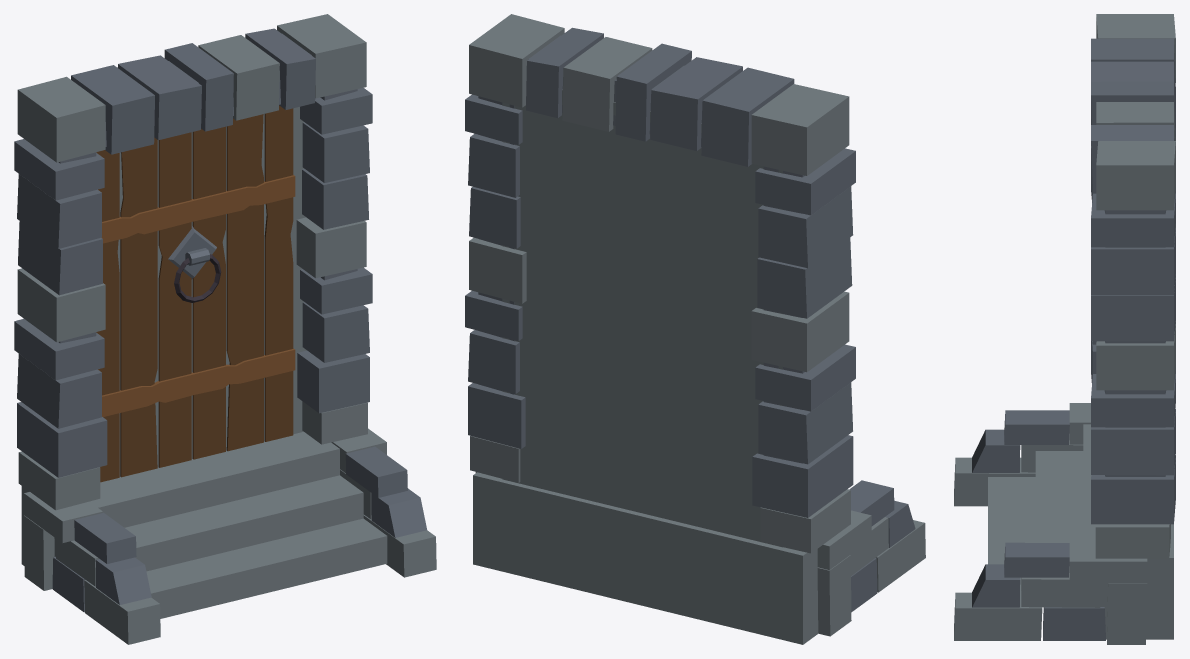
File: Door_Straight.gltf
3 renders of one model, left to right at view 1: azimuth 30°, elevation 25°; view 2: azimuth 150°, elevation 25°; view 3: azimuth 270°, elevation 25°, orthographic. The views are drawn at different scales.
Visible parts, largest first — view 1: Door_Straight; view 2: Door_Straight; view 3: Door_Straight.
Boxes of the visible parts, box(x1,y1,x2,y2) form: Door_Straight: box(14, 14, 436, 644); Door_Straight: box(465, 14, 925, 644); Door_Straight: box(954, 14, 1175, 644).
Size of the model in its own units: 0.5014 by 0.7079 by 0.2964.
